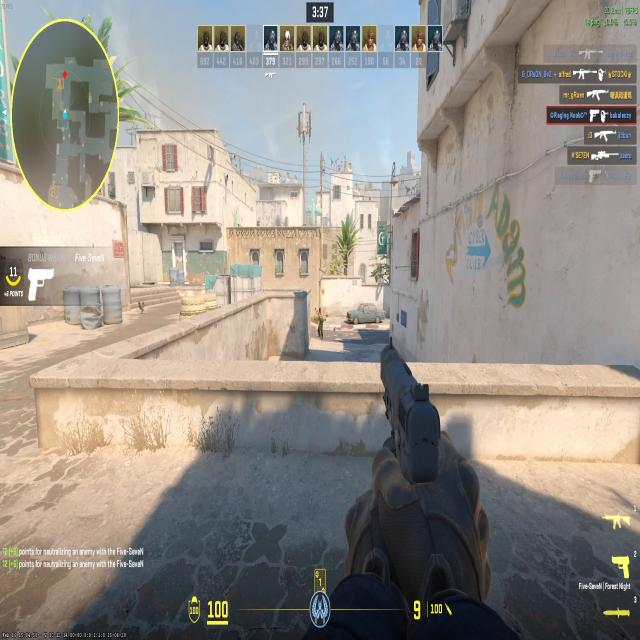player: (316, 301, 325, 340)
